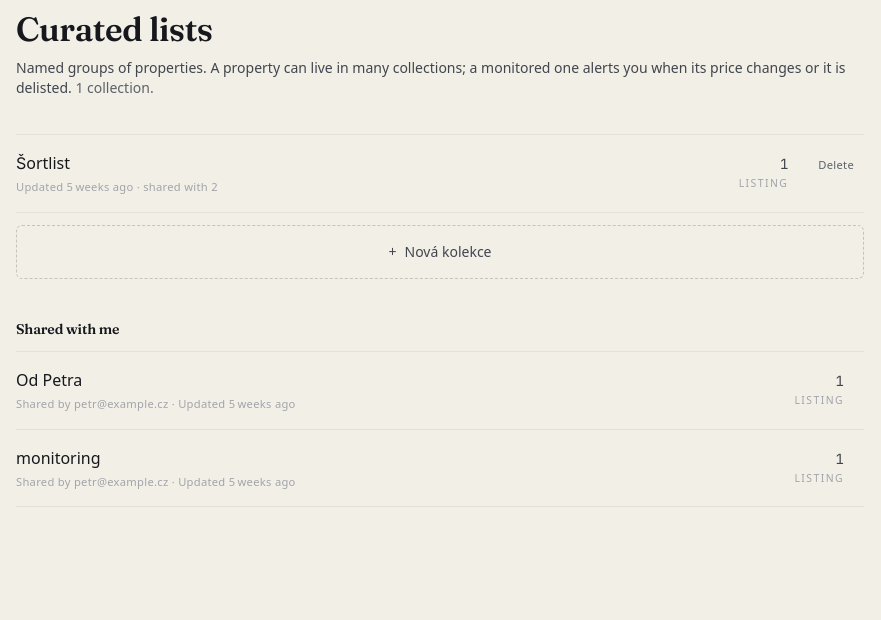
Test: <Collections> › lists collections shared with me apart, and counts my recipients
This screenshot has width=881, height=620.
Check: the text "Updated 5 weeks ago · shared with 2" is shown, box [16,179,218,194]
Check: the text "1 collection." is shown, box [75,78,154,97]
Click the button "+ Nová kolekce": (440, 252) [16,225,864,279]
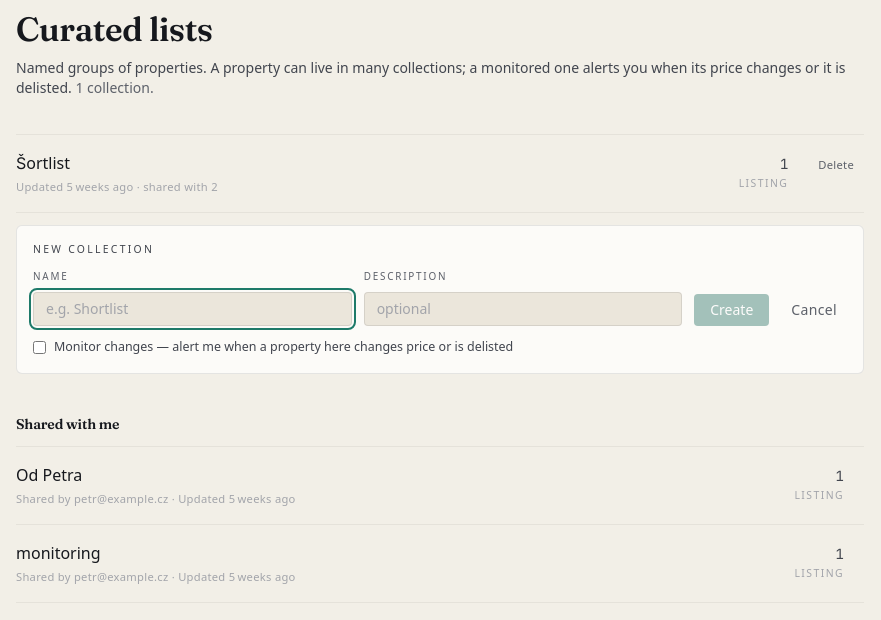
In the field labelled "Name": (192, 309) [33,292,352,326], type "Od Petra"
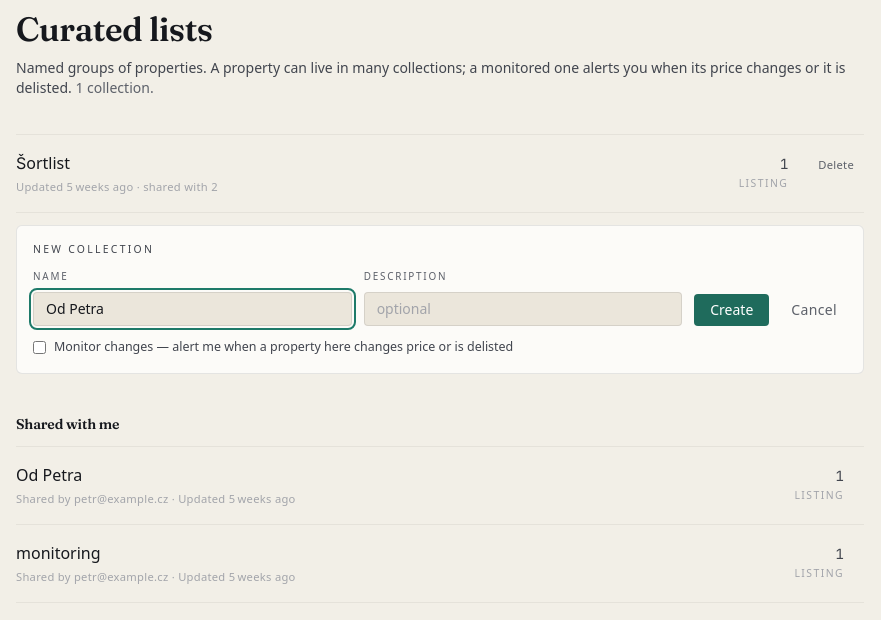
Check: the button "Create" is enabled, box [694,294,769,326]
